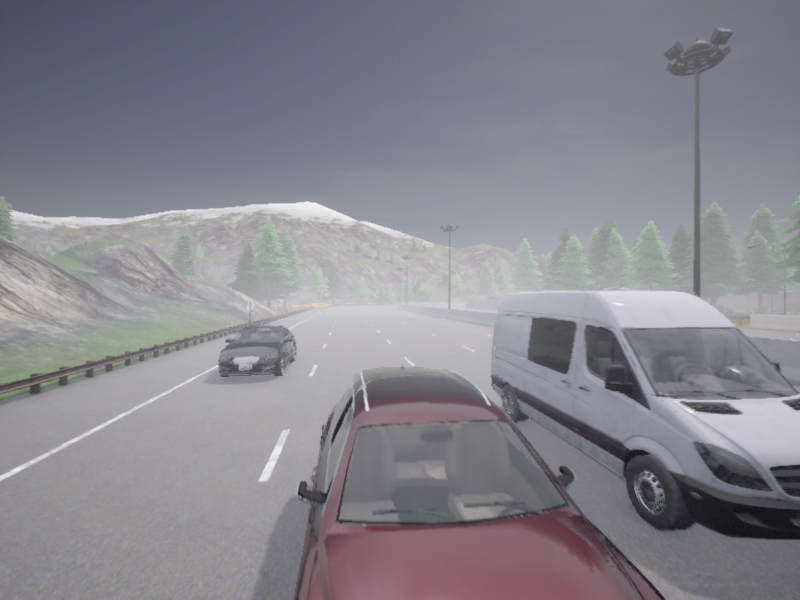vehicle: (294, 364, 665, 599), (490, 291, 799, 539), (219, 324, 296, 377)
